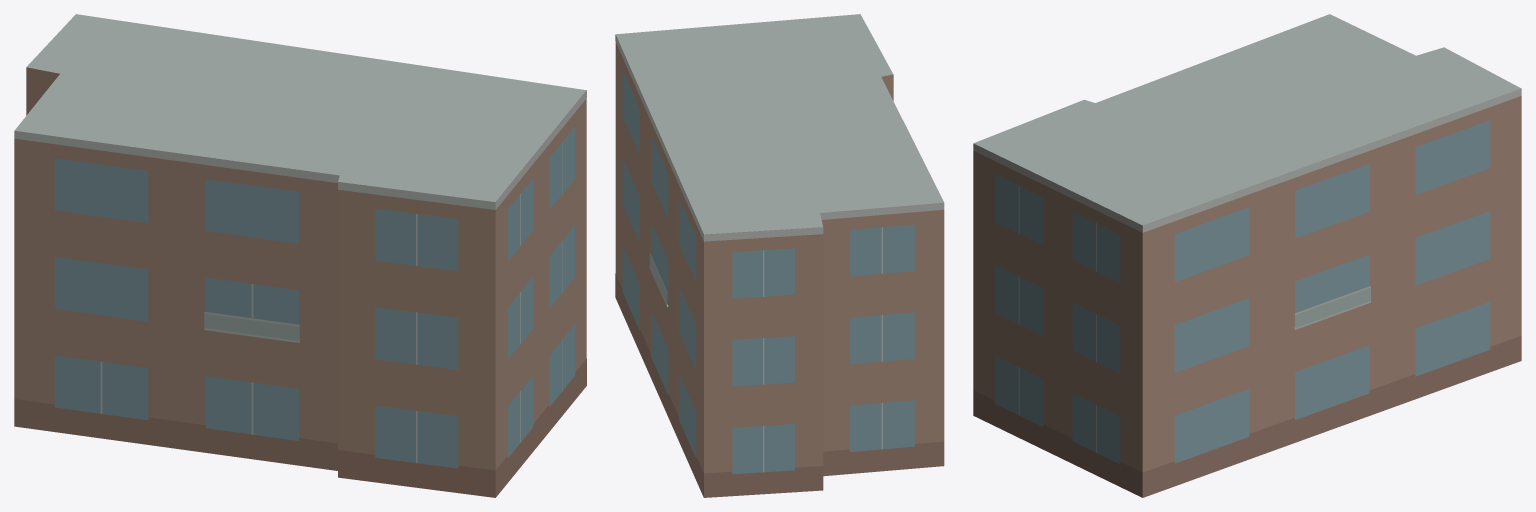
File: survey-upis-33021301.glb
The picture shows the model from 3 angles, left to right: view 1: azimuth 30°, elevation 25°; view 2: azimuth 150°, elevation 25°; view 3: azimuth 270°, elevation 25°; orthographic projection. The views are drawn at different scales.
Parts seen in each view (by area): view 1: survey-upis-33021301.tmp; view 2: survey-upis-33021301.tmp; view 3: survey-upis-33021301.tmp.
Boxes of the visible parts, <box> form: survey-upis-33021301.tmp: <box>14,14,586,497</box>; survey-upis-33021301.tmp: <box>615,14,944,497</box>; survey-upis-33021301.tmp: <box>973,14,1521,497</box>.
Bounding box in the file's own units: 15.25 × 9.15 × 16.71.
